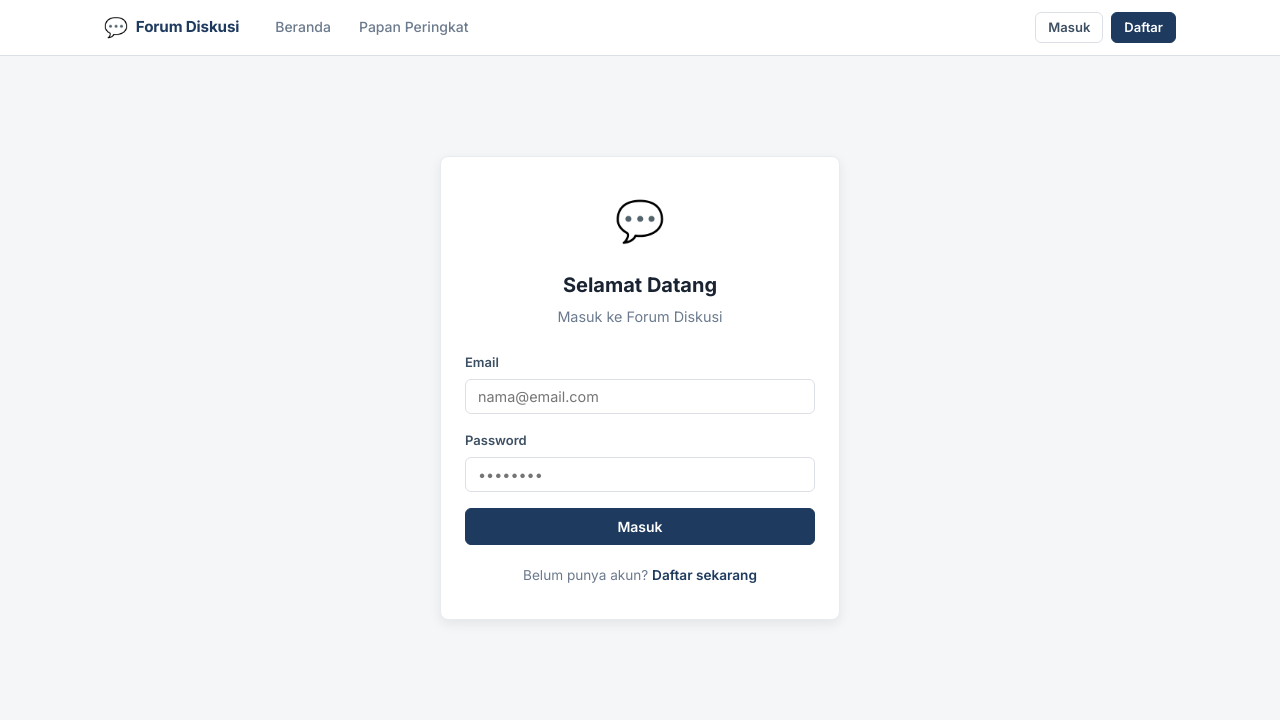
Login Flow › should show error when login with invalid credentials
Type "wrong@email.com" into the field labelled "Email". click: x=640, y=397
box: [465,379,815,414]
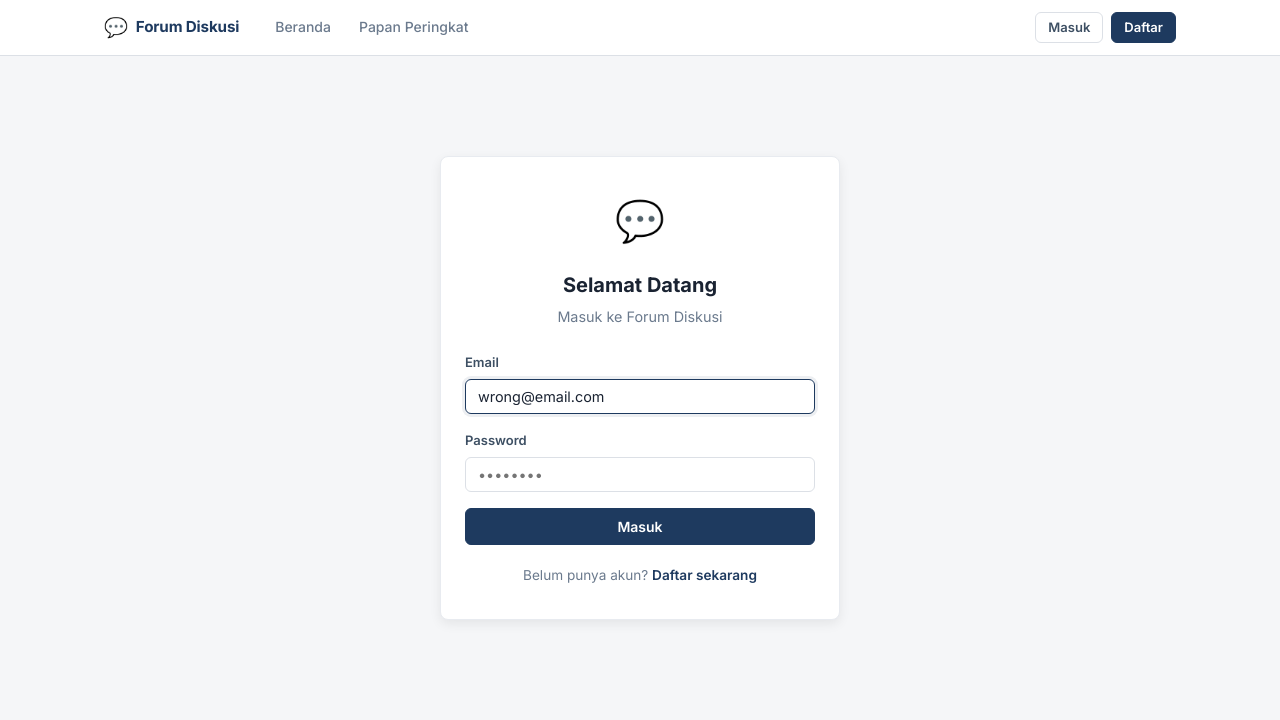
Type "wrongpassword" into the password field labelled "Password". click: x=640, y=475
box: [465,457,815,492]
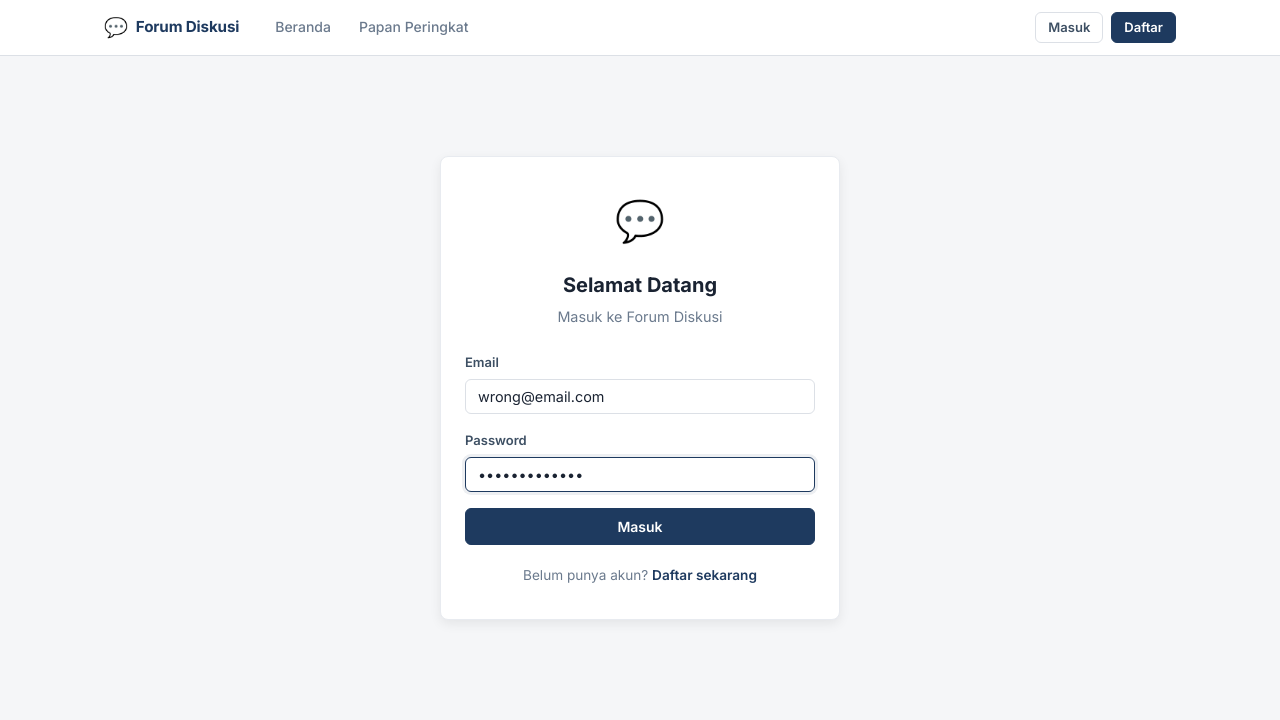
Click the submit button. click: x=640, y=527
box: [465,508,815,546]
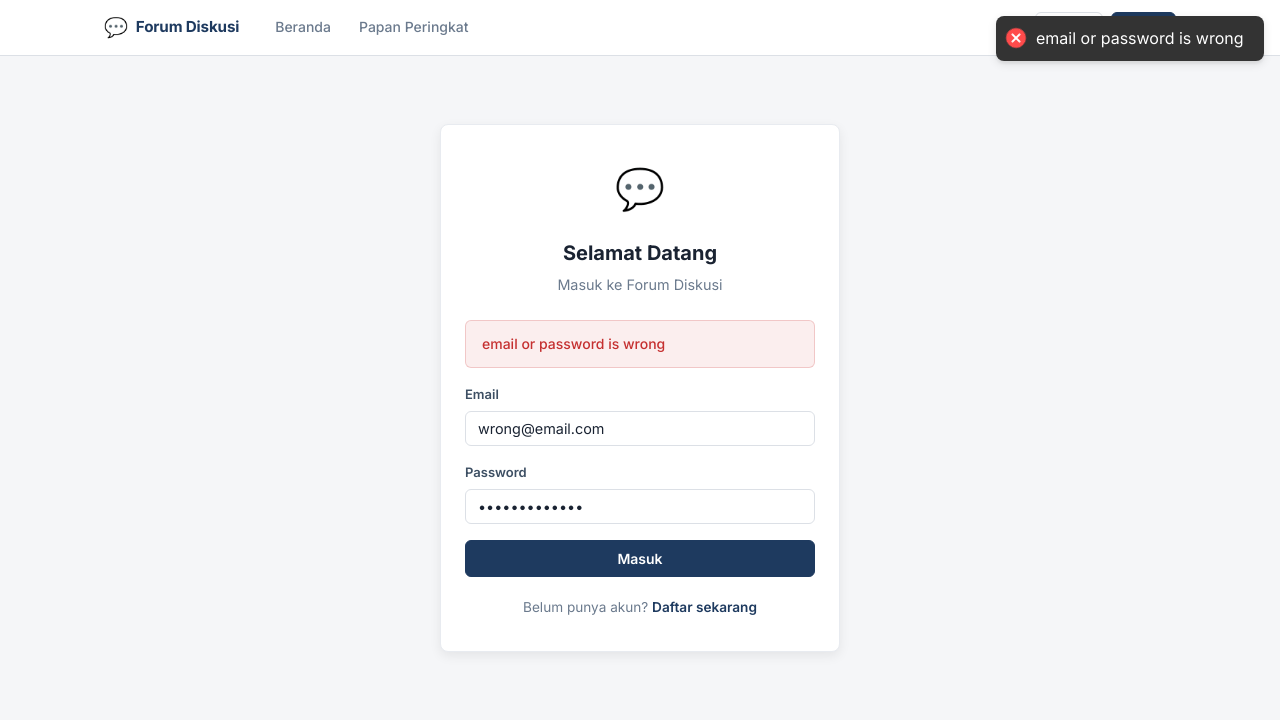
Check: the text "email or password is wrong" is shown, box [465,320,815,368]
